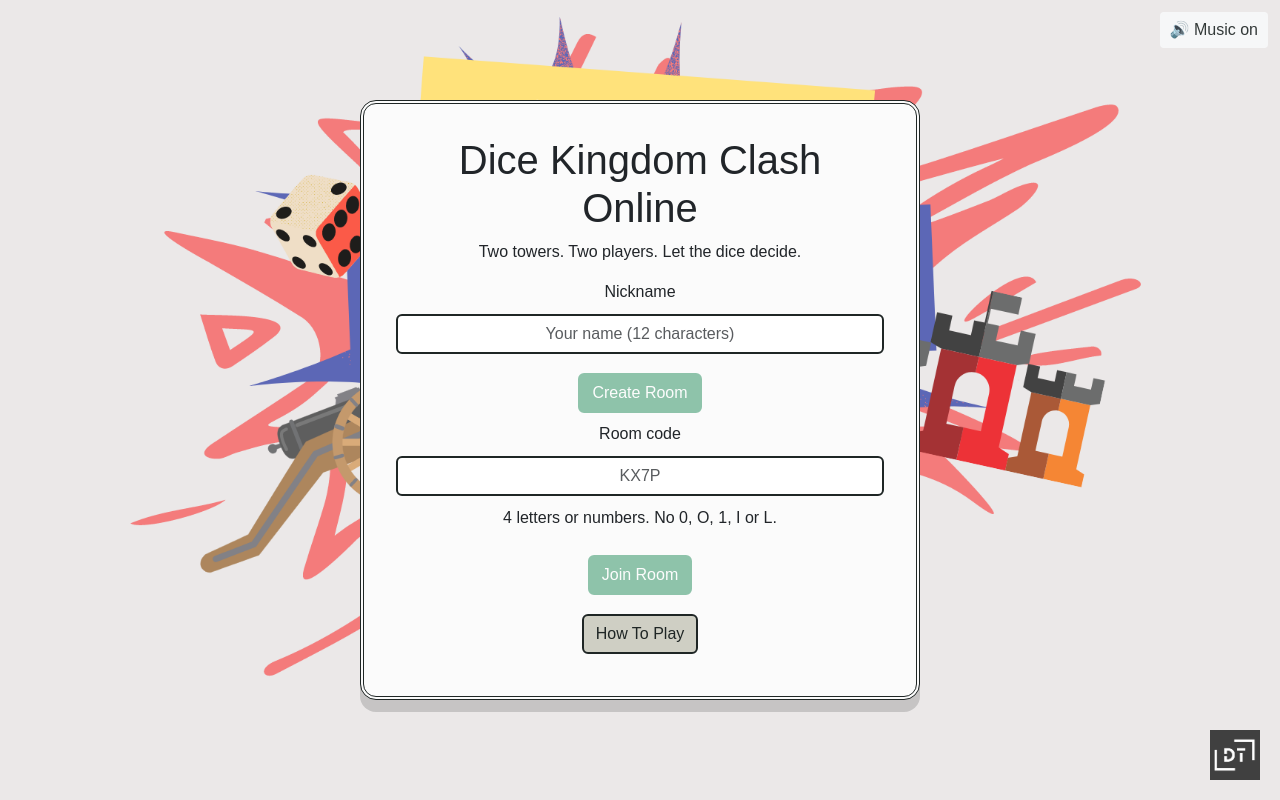
Test case: routed client › opens and closes the tutorial
Click the button "How To Play" at x=640, y=634, box [582,614,698,654]
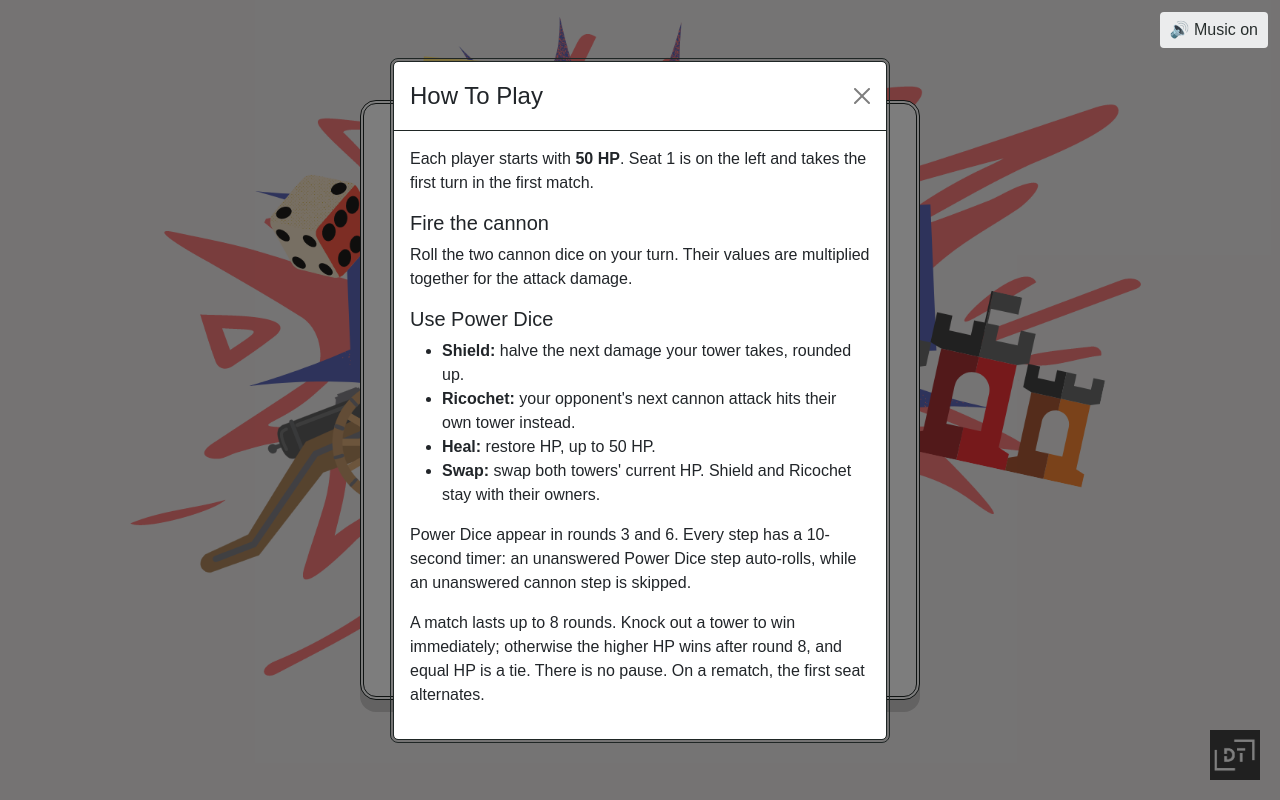
Check: the dialog is shown
Click the button named "Close" at x=862, y=96, box [846,80,878,112]
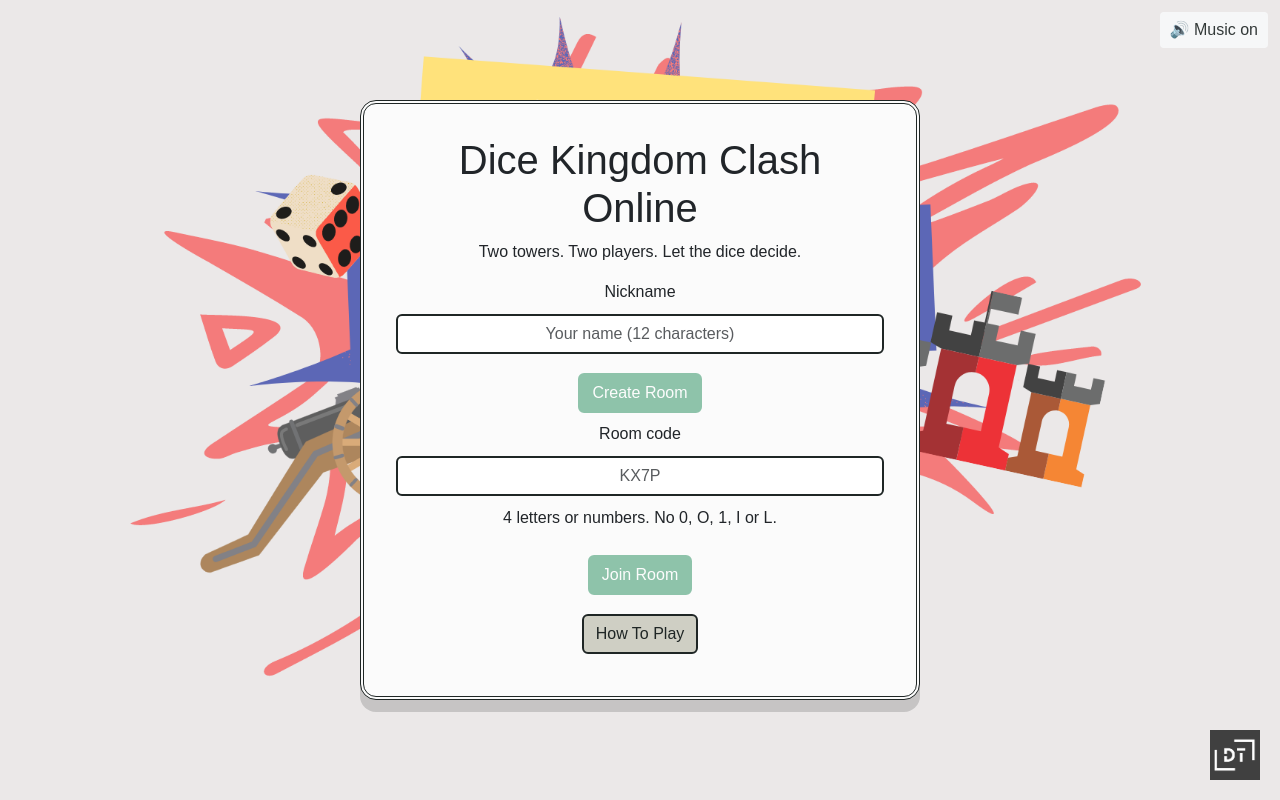
Check: the dialog is gone
